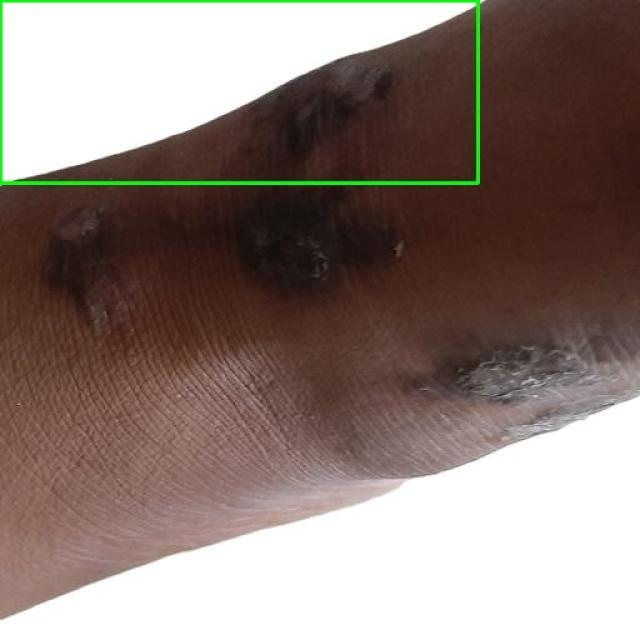Contact Dermatitis: (0, 0, 478, 182)
